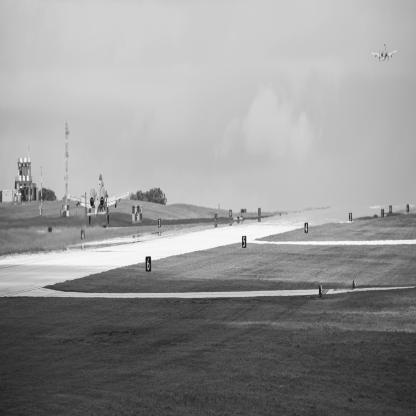A10: (68, 175, 131, 226), (373, 45, 398, 63)
